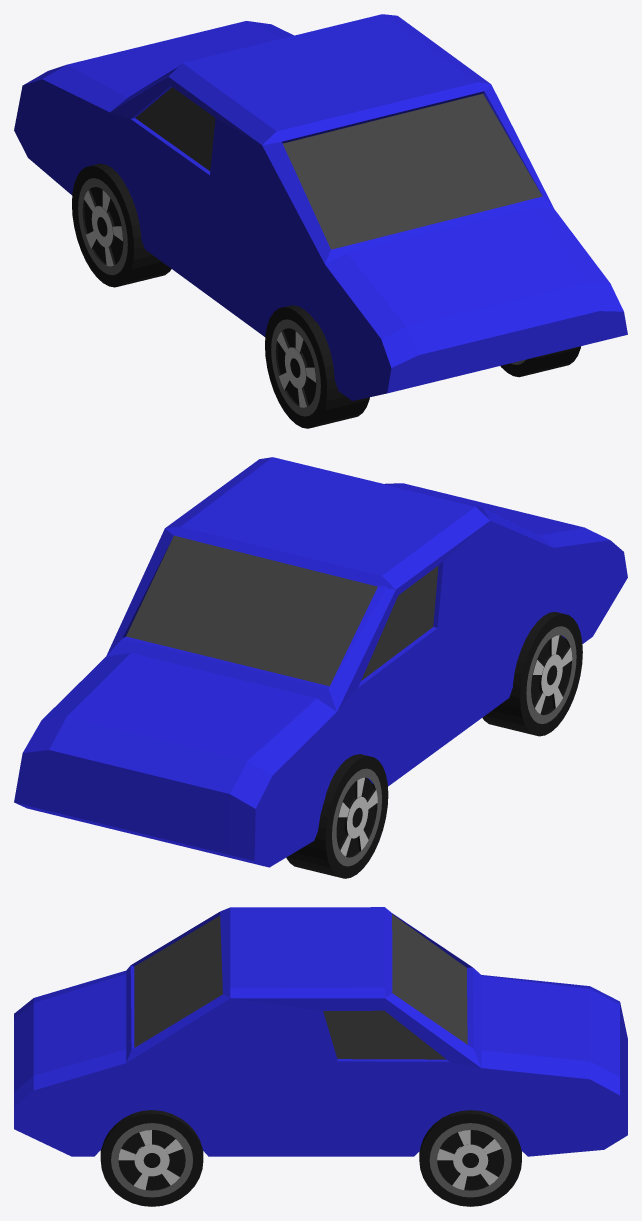
File: car.fbx
3 renders of one model, top to bottom at view 1: azimuth 30°, elevation 25°; view 2: azimuth 150°, elevation 25°; view 3: azimuth 270°, elevation 25°, orthographic. The views are drawn at different scales.
Visible parts, largest first — view 1: CarBase, Tire.001, Tire; view 2: CarBase, Tire.001; view 3: CarBase, Tire.
Boxes of the visible parts, <box> form: CarBase: <box>14,14,627,400</box>; Tire.001: <box>72,163,369,428</box>; Tire: <box>500,346,581,377</box>; CarBase: <box>14,457,627,867</box>; Tire.001: <box>286,612,582,878</box>; CarBase: <box>14,907,627,1156</box>; Tire: <box>100,1110,521,1206</box>.
Size of the model in its own units: 1069 by 999 by 2677.
